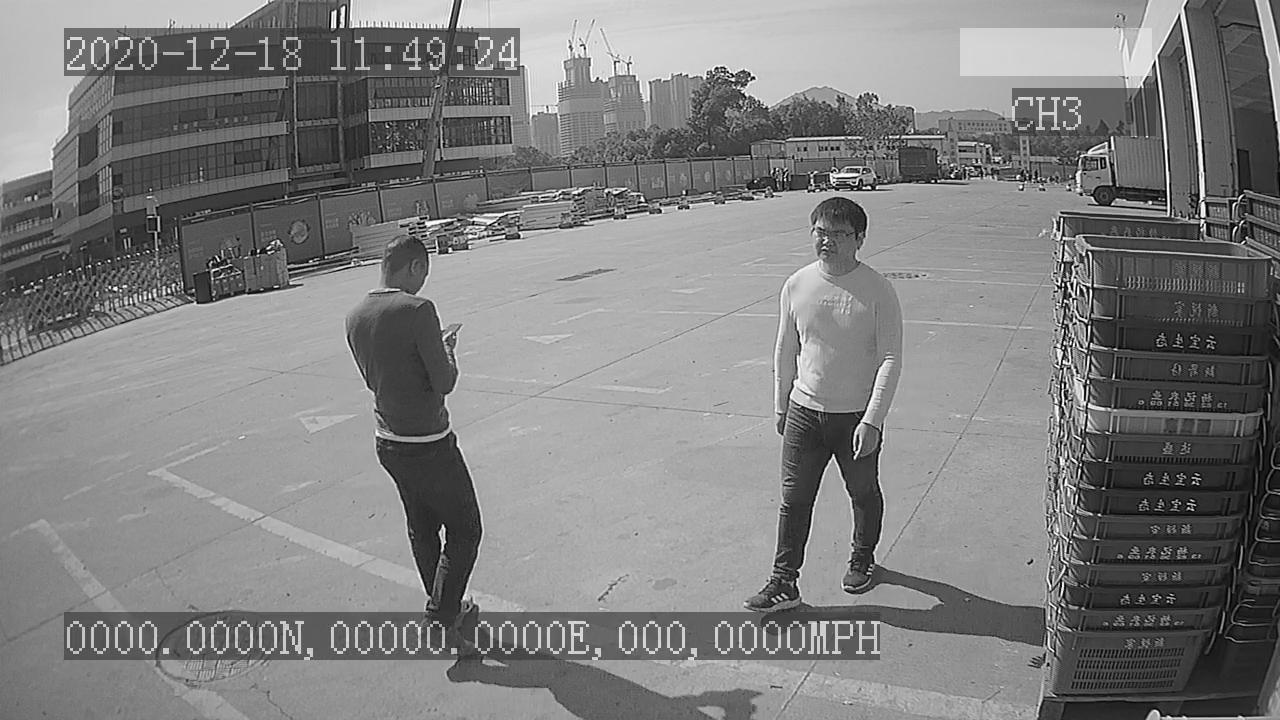person: (734, 192, 908, 610)
